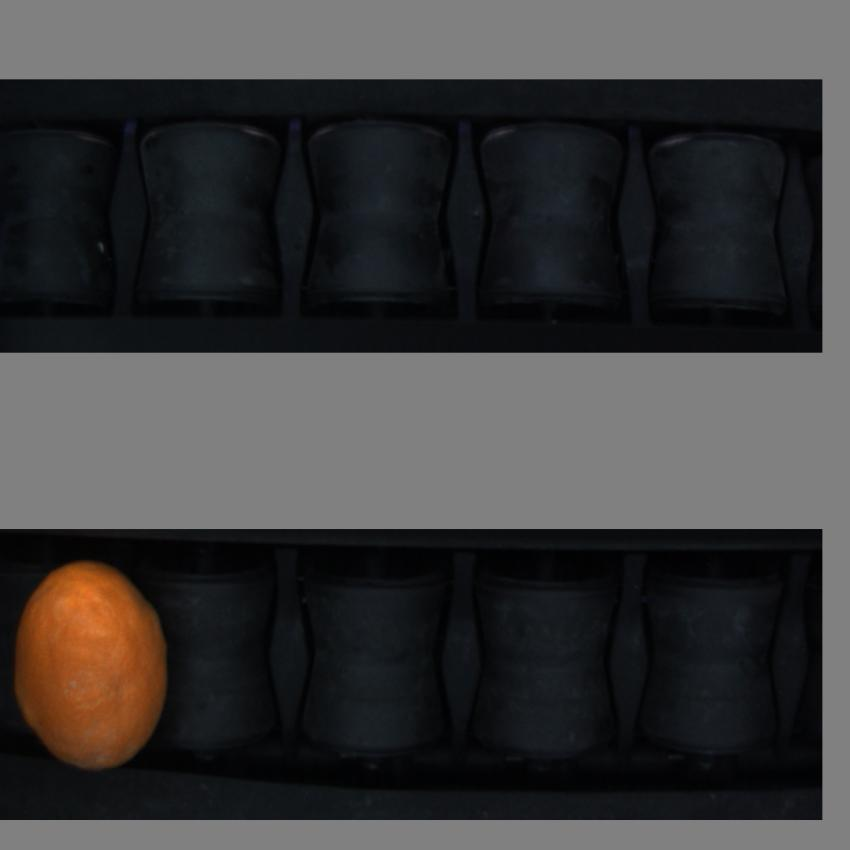Buen estado: (5, 561, 194, 777)
